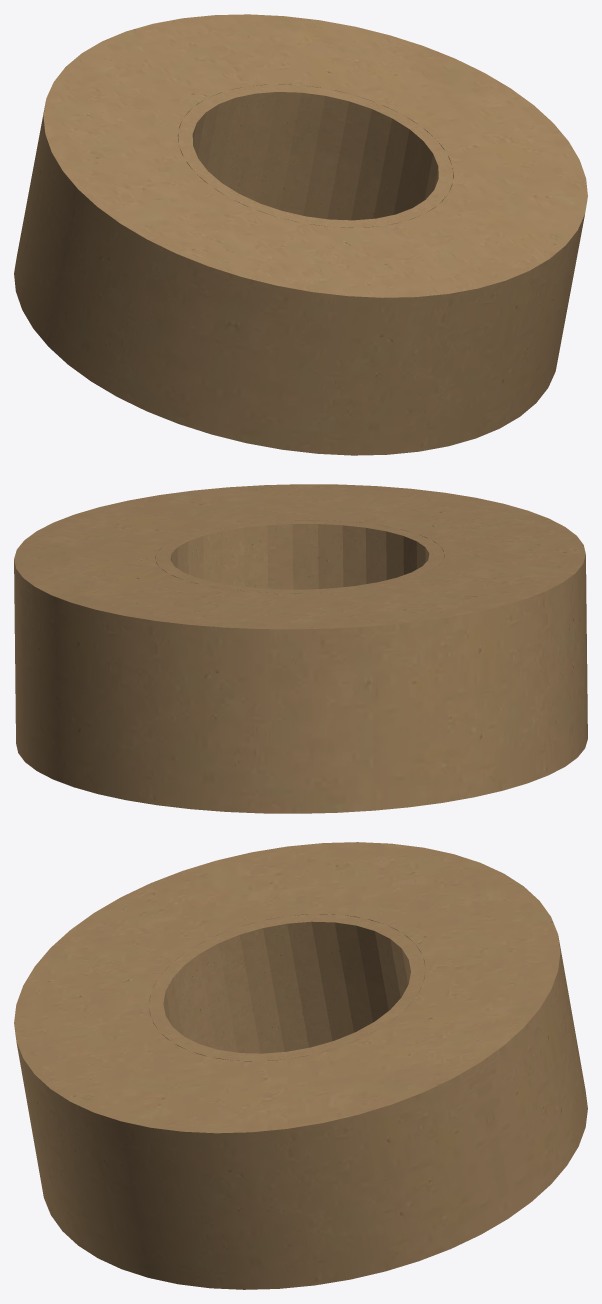
The model's file is ALV-DRY-007_anim.glb.
3 views of the same model, one above another, from view 1: azimuth 30°, elevation 25°; view 2: azimuth 150°, elevation 25°; view 3: azimuth 270°, elevation 25° (orthographic). The views are drawn at different scales.
Visible parts, largest first — view 1: ALV-DRY-007_anim0; view 2: ALV-DRY-007_anim0; view 3: ALV-DRY-007_anim0.
Part boxes in pixels (x1,y1,x2,y2): ALV-DRY-007_anim0: (14, 14, 587, 455); ALV-DRY-007_anim0: (14, 484, 587, 813); ALV-DRY-007_anim0: (14, 842, 587, 1289).
Bounding box in the file's own units: 0.1542 × 0.076 × 0.1558.
Materials: 1 (1 with a texture image).
